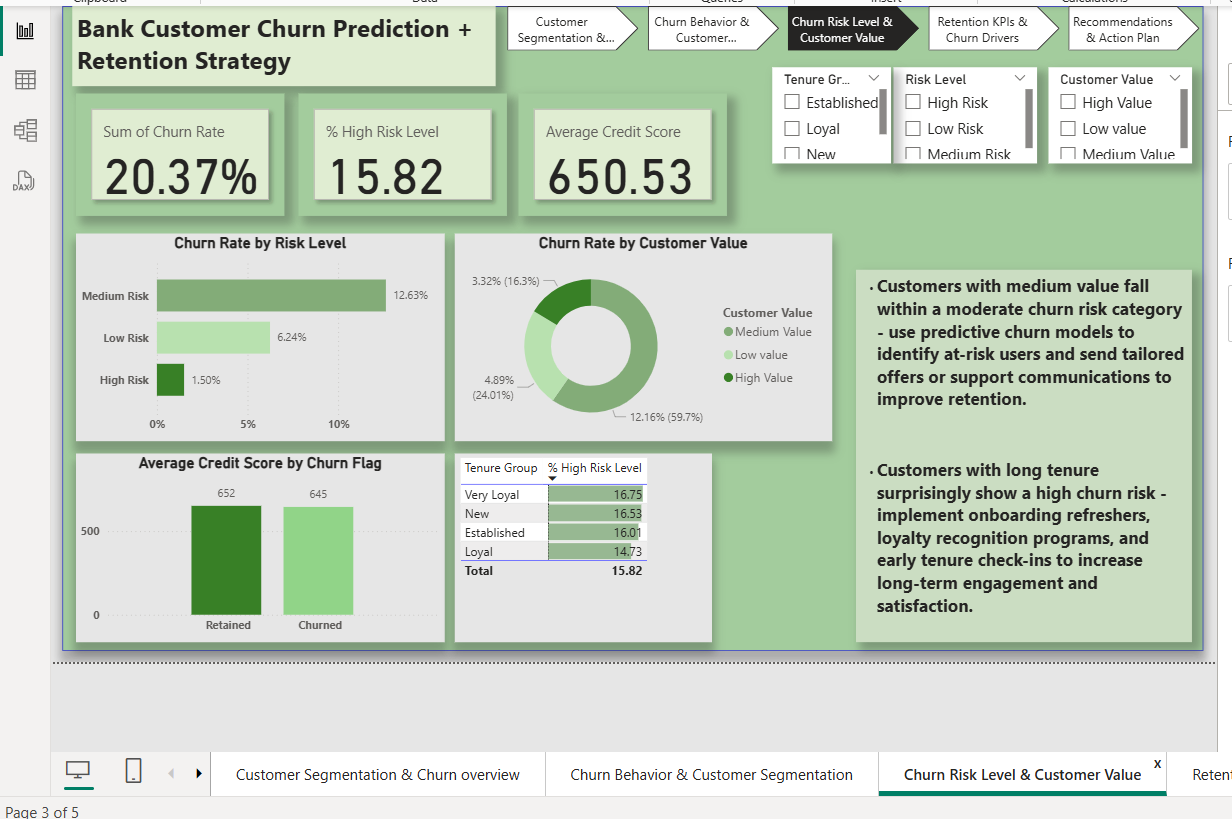

What the dashboard file says about the page in this screenshot:
{"tool":"powerbi","page":{"name":"Churn Risk Level & Customer Value","canvas":[1280,720],"ordinal":2},"visuals":[{"type":"shape","box":[12.3,0,1252.8,708.1],"z":0},{"type":"textbox","box":[23.3,0,465.2,87.8],"z":1000},{"type":"cardVisual","fields":{"Data":["Sum(Cleaned Dataset.Churn Rate)"]},"box":[27.4,96.1,229.2,134.5],"z":2000},{"type":"cardVisual","fields":{"Data":["Cleaned Dataset.% High Risk Level"]},"box":[271.7,96.1,229.2,134.5],"z":3000},{"type":"cardVisual","fields":{"Data":["Cleaned Dataset.Average Credit Score"]},"box":[513.2,96.1,229.2,134.5],"z":4000},{"type":"pageNavigator","box":[500.9,0,764.3,49.4],"z":5000},{"type":"barChart","title":"Churn Rate by Risk Level","fields":{"Category":["Cleaned Dataset.Risk Level"],"Y":["Sum(Cleaned Dataset.Churn Rate)"]},"box":[27.4,249.7,404.8,227.8],"z":6000},{"type":"donutChart","title":"Churn Rate by Customer Value","fields":{"Category":["Cleaned Dataset.Customer Value"],"Y":["Sum(Cleaned Dataset.Churn Rate)"]},"box":[443.2,249.7,414.4,227.8],"z":7000},{"type":"columnChart","fields":{"Category":["Cleaned Dataset.Churn Flag"],"Y":["Cleaned Dataset.Average Credit Score"]},"box":[27.4,491.3,404.8,207.2],"z":8000},{"type":"slicer","fields":{"Values":["Cleaned Dataset.Risk Level"]},"box":[924.9,67.2,157.8,105.7],"z":9000},{"type":"slicer","fields":{"Values":["Cleaned Dataset.Tenure Group"]},"box":[791.8,67.2,130.4,105.7],"z":10000},{"type":"slicer","fields":{"Values":["Cleaned Dataset.Customer Value"]},"box":[1095,67.2,157.8,105.7],"z":11000},{"type":"tableEx","fields":{"Values":["Cleaned Dataset.Tenure Group","Cleaned Dataset.% High Risk Level"]},"box":[443.2,491.3,282.7,207.2],"z":12000},{"type":"textbox","box":[883.7,289.5,369.1,408.9],"z":13000}]}

Visuals, with their boxes on the page's 1280x720 design canvas (x1, y1, x2, y2). These are canvas units, not pixel positions in the 1232x819 screenshot, which may show the page scaled, cropped or inside an application window:
shape: crop(12, 0, 1265, 708)
textbox: crop(23, 0, 488, 88)
cardVisual - Sum(Cleaned Dataset.Churn Rate): crop(27, 96, 257, 231)
cardVisual - Cleaned Dataset.% High Risk Level: crop(272, 96, 501, 231)
cardVisual - Cleaned Dataset.Average Credit Score: crop(513, 96, 742, 231)
pageNavigator: crop(501, 0, 1265, 49)
"Churn Rate by Risk Level" barChart: crop(27, 250, 432, 478)
"Churn Rate by Customer Value" donutChart: crop(443, 250, 858, 478)
columnChart - Cleaned Dataset.Churn Flag x Cleaned Dataset.Average Credit Score: crop(27, 491, 432, 698)
slicer - Cleaned Dataset.Risk Level: crop(925, 67, 1083, 173)
slicer - Cleaned Dataset.Tenure Group: crop(792, 67, 922, 173)
slicer - Cleaned Dataset.Customer Value: crop(1095, 67, 1253, 173)
tableEx - Cleaned Dataset.Tenure Group x Cleaned Dataset.% High Risk Level: crop(443, 491, 726, 698)
textbox: crop(884, 290, 1253, 698)
